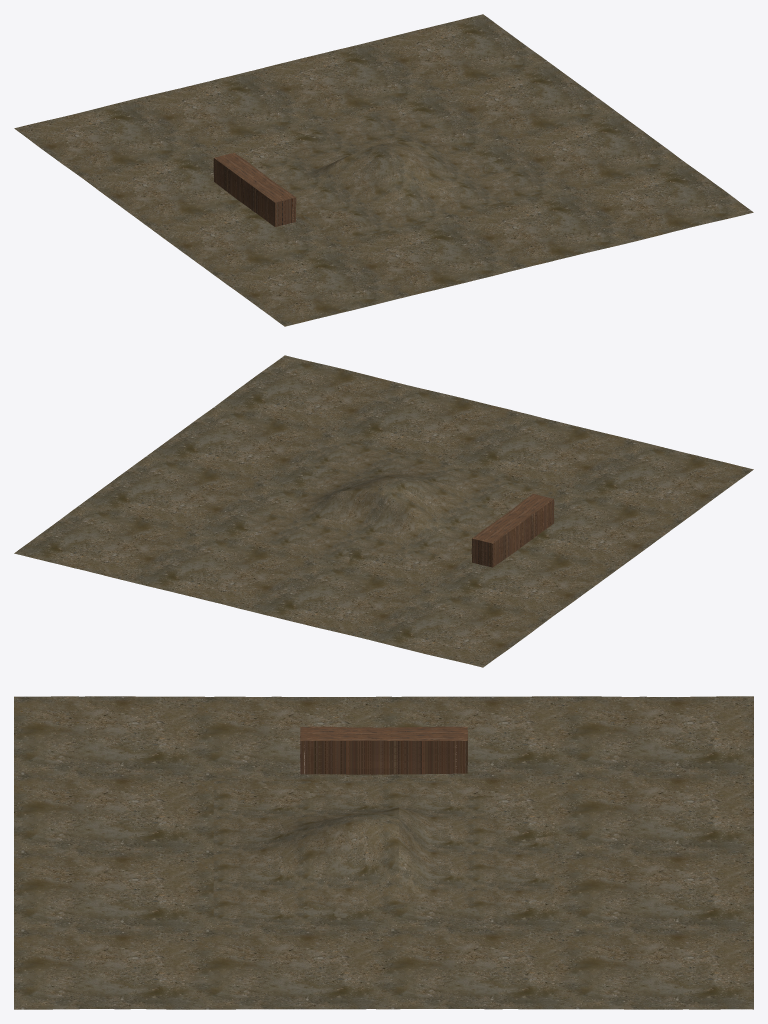
File: aeolian.glb
3 renders of one model, top to bottom at view 1: azimuth 30°, elevation 25°; view 2: azimuth 150°, elevation 25°; view 3: azimuth 270°, elevation 25°, orthographic. The views are drawn at different scales.
Parts seen in each view (by area): view 1: Aeolian_Floor, Aeolian_Barchan, Aeolian_Yardang; view 2: Aeolian_Floor, Aeolian_Barchan, Aeolian_Yardang; view 3: Aeolian_Floor, Aeolian_Barchan, Aeolian_Yardang.
Part boxes in pixels (<box>): Aeolian_Floor: <box>14,14,753,326</box>; Aeolian_Barchan: <box>259,108,553,242</box>; Aeolian_Yardang: <box>213,153,296,226</box>; Aeolian_Floor: <box>14,355,753,667</box>; Aeolian_Barchan: <box>244,439,553,570</box>; Aeolian_Yardang: <box>471,493,554,567</box>; Aeolian_Floor: <box>14,696,753,1009</box>; Aeolian_Barchan: <box>213,781,554,924</box>; Aeolian_Yardang: <box>300,726,467,774</box>.
Size of the model in its own units: 8 by 0.4365 by 8.
2 materials, 2 textured.
